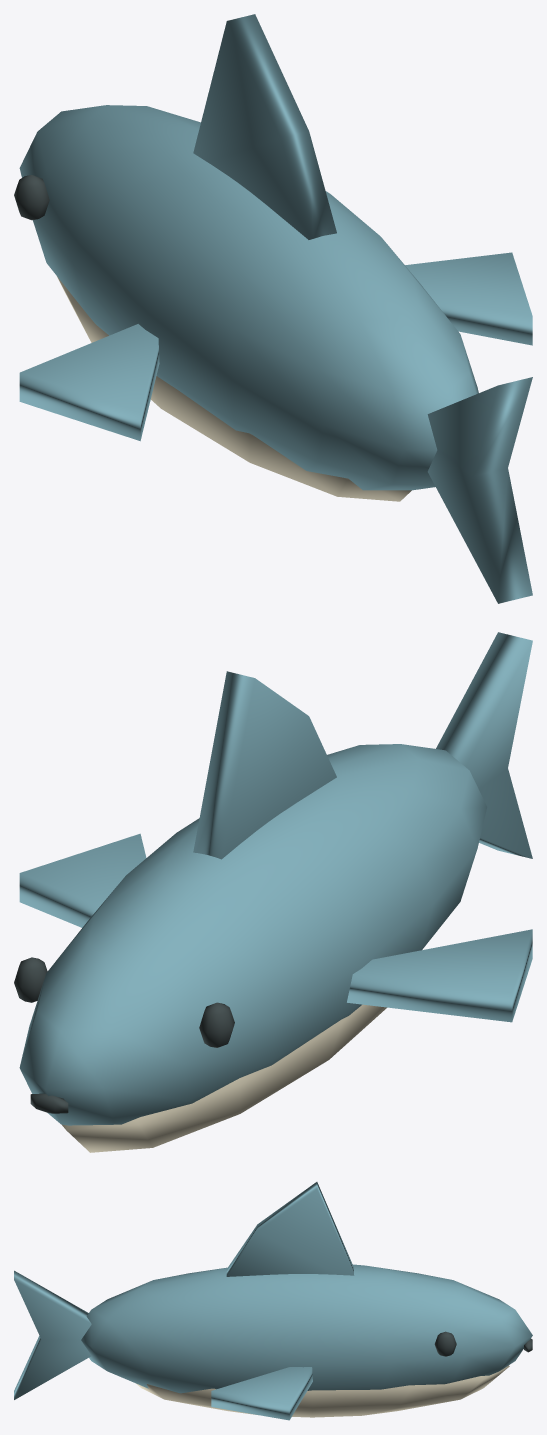
File: fish_anchovy.glb
The picture shows the model from 3 angles, top to bottom: view 1: azimuth 30°, elevation 25°; view 2: azimuth 150°, elevation 25°; view 3: azimuth 270°, elevation 25°; orthographic projection. The views are drawn at different scales.
Bounding box in the file's own units: 0.1452 × 0.1149 × 0.24.
